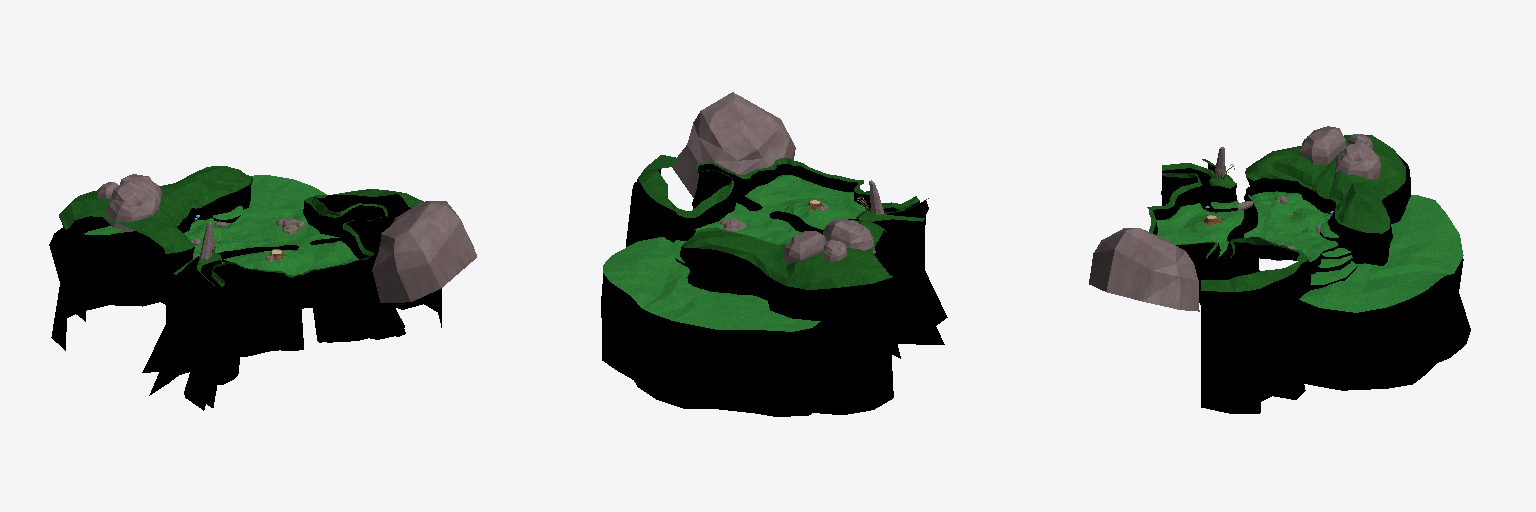
3 views of the same model, side by side, from view 1: azimuth 30°, elevation 25°; view 2: azimuth 150°, elevation 25°; view 3: azimuth 270°, elevation 25° (orthographic).
Parts seen in each view (by area): view 1: walls_1_GEO geometry_GRP map_GRP, map_GRP props_static_GRP rockNormal_static2:rock_Normalrock_GRPp, geometry_GRP map_GRP floor_1_GEO floor_GRP, geometry_GRP map_GRP cliff_GRP cliff_1_GEO, geometry_GRP map_GRP polySurface1, geometry_GRP map_GRP rockNormal_static4:rock_Normalrock_GRPprops, geometry_GRP map_GRP cliff_3_GEO cliff_GRP; view 2: walls_1_GEO geometry_GRP map_GRP, geometry_GRP map_GRP polySurface2, geometry_GRP map_GRP polySurface1, map_GRP props_static_GRP rockNormal_static2:rock_Normalrock_GRPp, geometry_GRP map_GRP cliff_GRP cliff_1_GEO, geometry_GRP map_GRP floor_1_GEO floor_GRP, geometry_GRP map_GRP cliff_3_GEO cliff_GRP, geometry_GRP map_GRP rockNormal_static4:rock_Normalrock_GRPprops, geometry_GRP map_GRP rockNormal_static6:rock_Normalrock_GRPprops; view 3: walls_1_GEO geometry_GRP map_GRP, geometry_GRP map_GRP polySurface2, geometry_GRP map_GRP polySurface1, map_GRP props_static_GRP rockNormal_static2:rock_Normalrock_GRPp, geometry_GRP map_GRP cliff_GRP cliff_1_GEO, geometry_GRP map_GRP floor_1_GEO floor_GRP, geometry_GRP map_GRP cliff_3_GEO cliff_GRP, geometry_GRP map_GRP rockNormal_static4:rock_Normalrock_GRPprops, geometry_GRP map_GRP rockNormal_static6:rock_Normalrock_GRPprops, geometry_GRP map_GRP steps_GRP step_3, geometry_GRP map_GRP cliff_GRP cliff_2_GEO.
Part boxes in pixels (left/top/right/bottom): walls_1_GEO geometry_GRP map_GRP: left=49, top=181, right=441, bottom=410; map_GRP props_static_GRP rockNormal_static2:rock_Normalrock_GRPp: left=372, top=201, right=476, bottom=302; geometry_GRP map_GRP floor_1_GEO floor_GRP: left=184, top=208, right=358, bottom=275; geometry_GRP map_GRP cliff_GRP cliff_1_GEO: left=59, top=166, right=253, bottom=253; geometry_GRP map_GRP polySurface1: left=84, top=175, right=326, bottom=234; geometry_GRP map_GRP rockNormal_static4:rock_Normalrock_GRPprops: left=103, top=180, right=159, bottom=231; geometry_GRP map_GRP cliff_3_GEO cliff_GRP: left=211, top=189, right=423, bottom=286; walls_1_GEO geometry_GRP map_GRP: left=626, top=164, right=947, bottom=414; geometry_GRP map_GRP polySurface2: left=601, top=273, right=821, bottom=416; geometry_GRP map_GRP polySurface1: left=603, top=237, right=820, bottom=331; map_GRP props_static_GRP rockNormal_static2:rock_Normalrock_GRPp: left=671, top=92, right=795, bottom=197; geometry_GRP map_GRP cliff_GRP cliff_1_GEO: left=682, top=220, right=892, bottom=289; geometry_GRP map_GRP floor_1_GEO floor_GRP: left=695, top=175, right=866, bottom=244; geometry_GRP map_GRP cliff_3_GEO cliff_GRP: left=638, top=155, right=919, bottom=217; geometry_GRP map_GRP rockNormal_static4:rock_Normalrock_GRPprops: left=823, top=218, right=875, bottom=253; geometry_GRP map_GRP rockNormal_static6:rock_Normalrock_GRPprops: left=783, top=231, right=826, bottom=264; walls_1_GEO geometry_GRP map_GRP: left=1153, top=155, right=1410, bottom=413; geometry_GRP map_GRP polySurface2: left=1298, top=258, right=1470, bottom=390; geometry_GRP map_GRP polySurface1: left=1299, top=195, right=1463, bottom=312; map_GRP props_static_GRP rockNormal_static2:rock_Normalrock_GRPp: left=1089, top=228, right=1199, bottom=311; geometry_GRP map_GRP cliff_GRP cliff_1_GEO: left=1245, top=135, right=1405, bottom=233; geometry_GRP map_GRP floor_1_GEO floor_GRP: left=1156, top=191, right=1337, bottom=261; geometry_GRP map_GRP cliff_3_GEO cliff_GRP: left=1147, top=173, right=1307, bottom=291; geometry_GRP map_GRP rockNormal_static4:rock_Normalrock_GRPprops: left=1299, top=126, right=1345, bottom=164; geometry_GRP map_GRP rockNormal_static6:rock_Normalrock_GRPprops: left=1335, top=142, right=1380, bottom=179; geometry_GRP map_GRP steps_GRP step_3: left=1310, top=261, right=1357, bottom=289; geometry_GRP map_GRP cliff_GRP cliff_2_GEO: left=1162, top=159, right=1236, bottom=188.
Bounding box in the file's own units: 13231 × 6300 × 13636.
Materials: 22 (11 with a texture image).